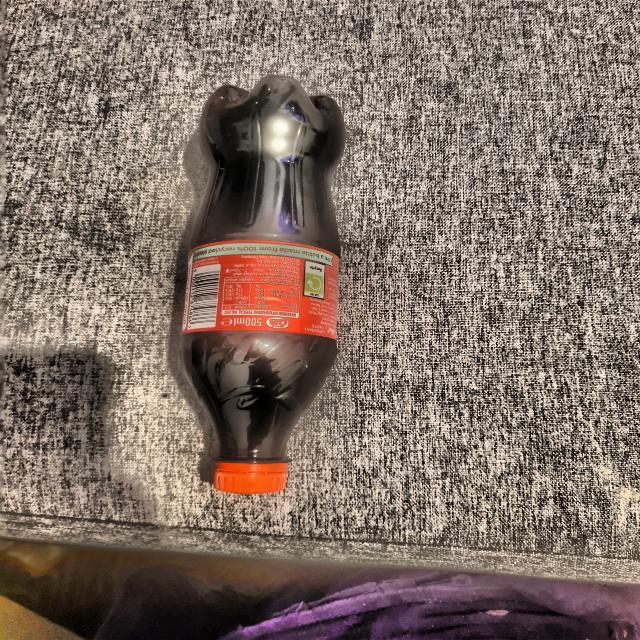coke-bottle: (188, 80, 343, 490)
